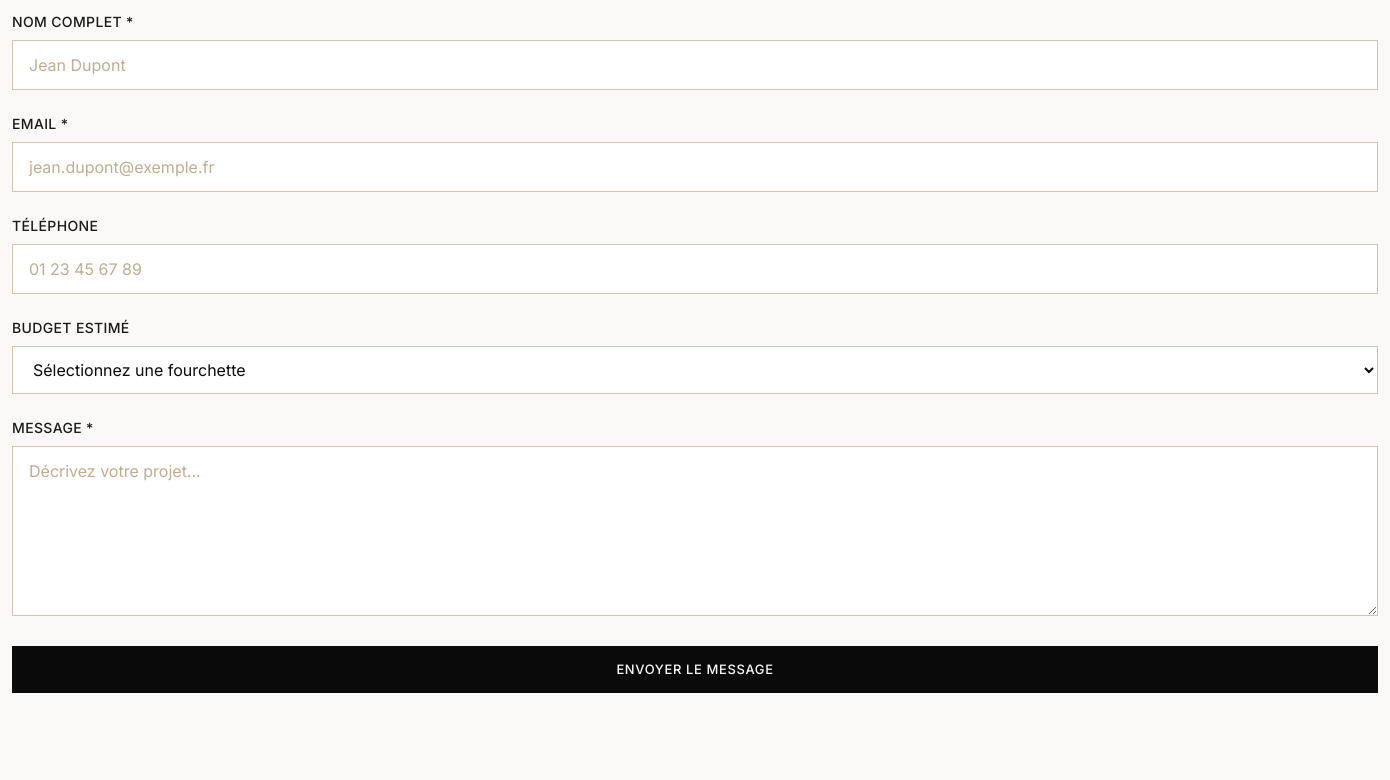
Test case: ContactForm › shows validation error for empty name
Click the button "Envoyer le message" at (695, 670), box [12,646,1378,693]
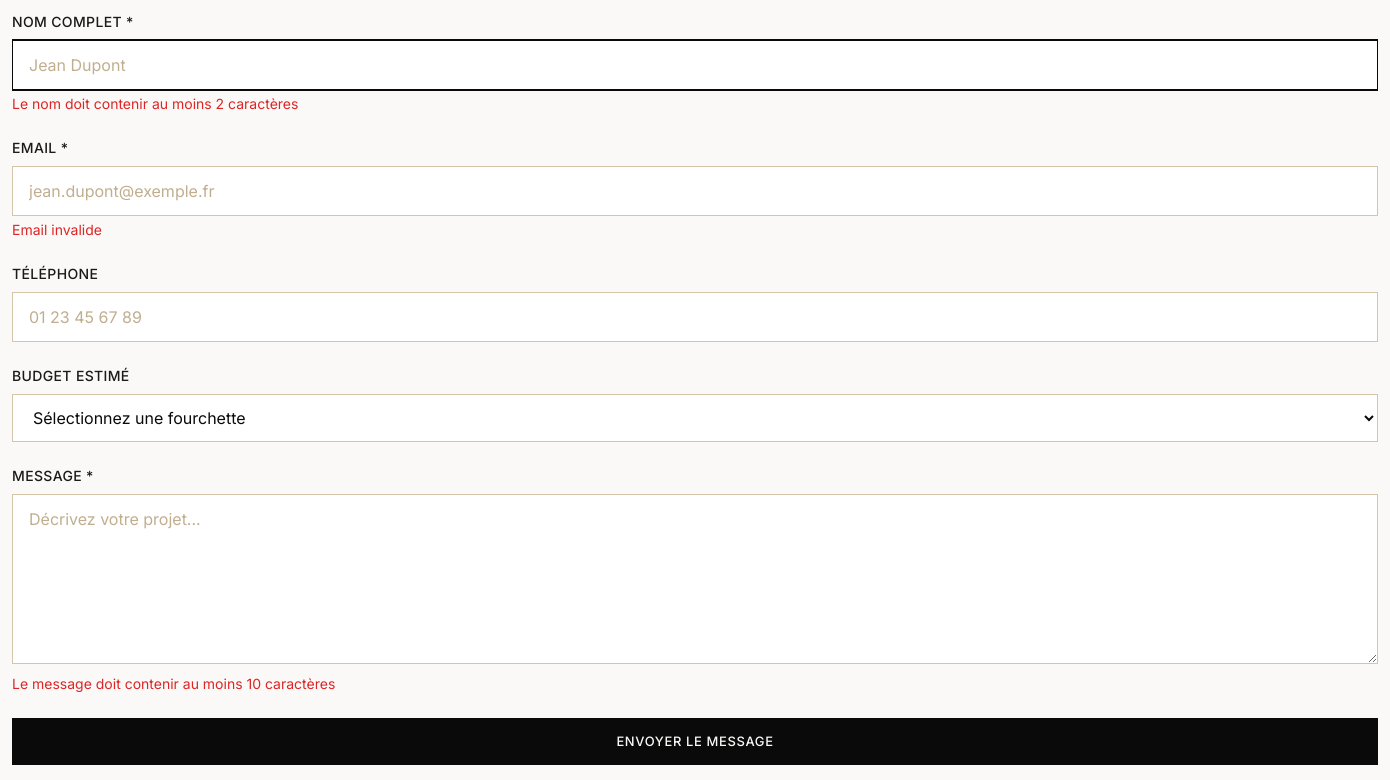
expect the text "Le nom doit contenir au moins 2 caractères" is shown: met, box [12,95,298,112]
